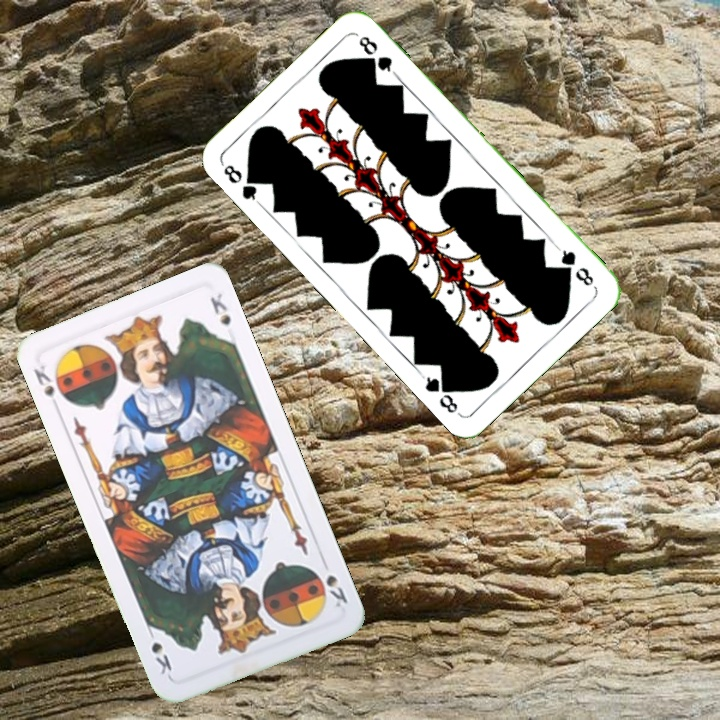G8: (218, 160, 263, 207), (553, 243, 597, 289)
SK: (29, 361, 63, 414), (322, 570, 350, 610)
